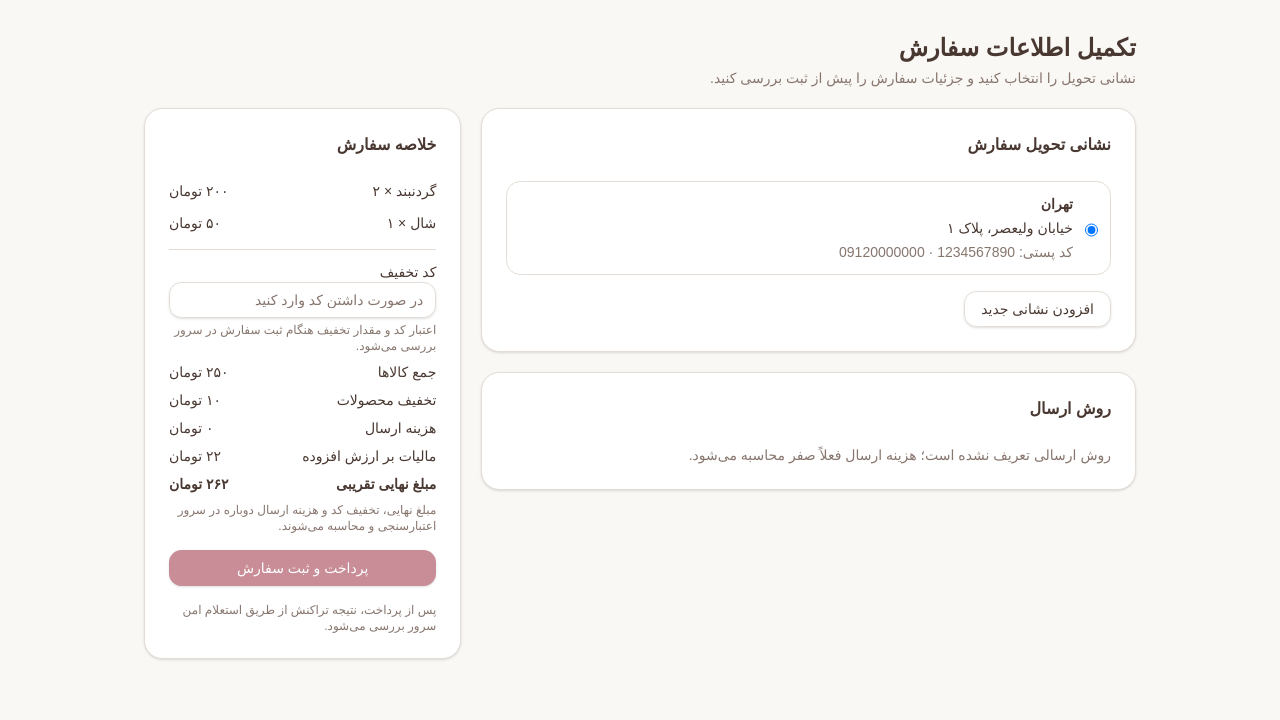
Test: checkout — submitting the order › explains a stock conflict in plain Persian
This screenshot has width=1280, height=720.
Check: the radio button is checked, box [1085, 198, 1098, 262]
Click the button "پرداخت و ثبت سفارش": (303, 568) [169, 550, 436, 586]
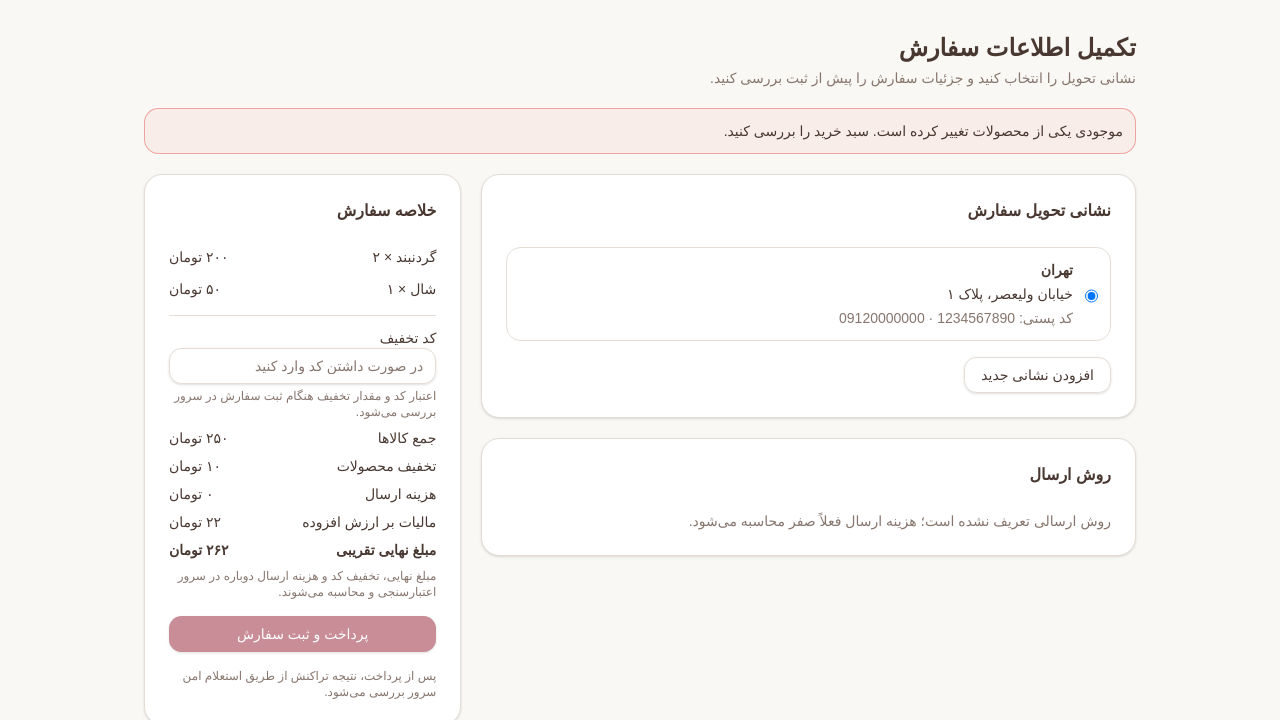
Check: the message reads "موجودی یکی از محصولات تغییر کرده است. سبد خرید را بررسی کنید.", box [724, 123, 1123, 139]
